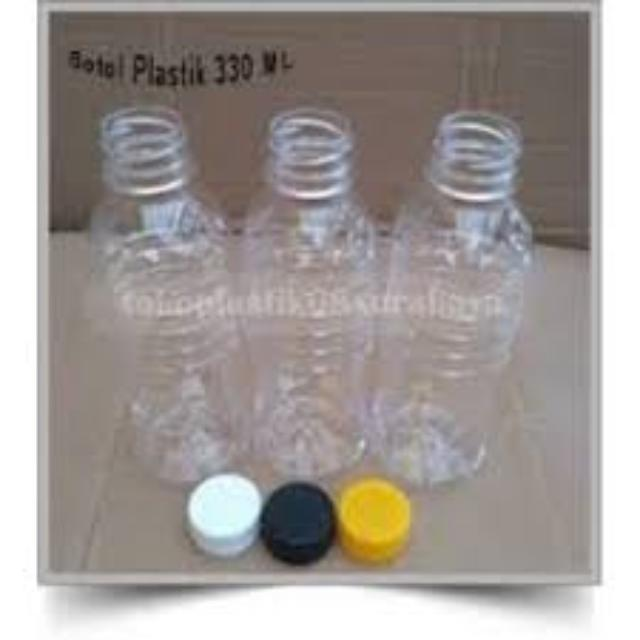trash: (77, 108, 249, 488), (373, 104, 532, 490), (238, 109, 388, 485)
